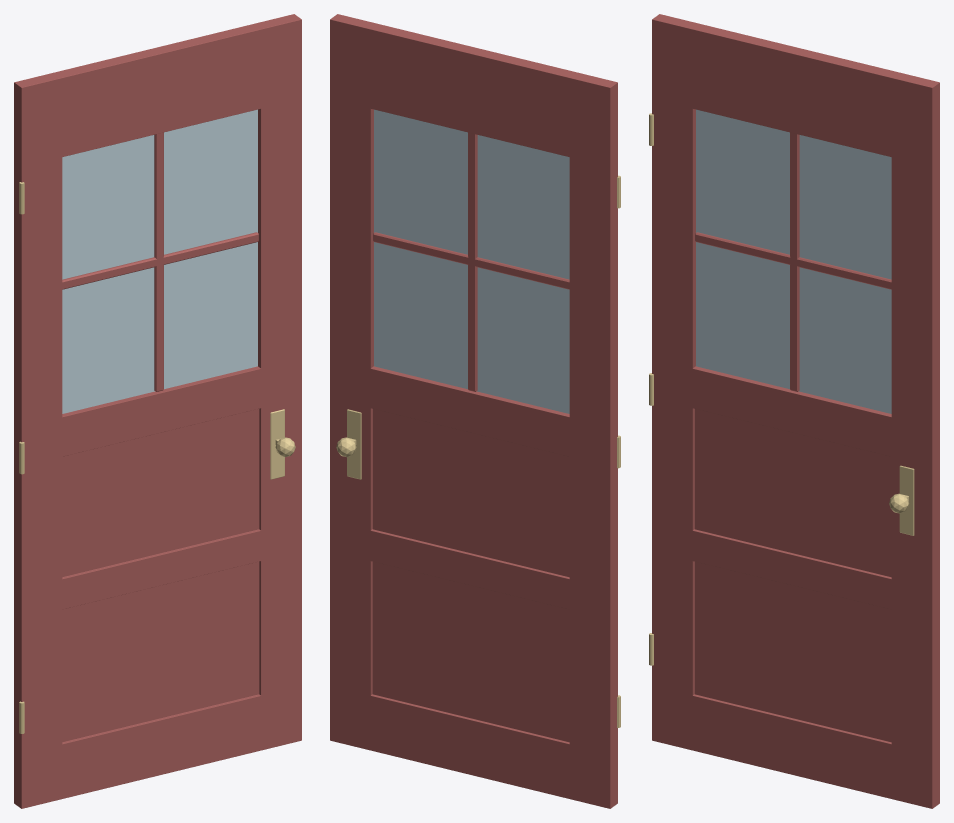
The model's file is door_leaf_exit.glb.
3 views of the same model, side by side, from view 1: azimuth 30°, elevation 25°; view 2: azimuth 150°, elevation 25°; view 3: azimuth 330°, elevation 25° (orthographic).
Visible parts, largest first — view 1: door_leaf_exit_door, door_leaf_exit_glass, door_leaf_exit_brass; view 2: door_leaf_exit_door, door_leaf_exit_glass, door_leaf_exit_brass; view 3: door_leaf_exit_door, door_leaf_exit_glass, door_leaf_exit_brass.
Part boxes in pixels (x1,y1,x2,y2): door_leaf_exit_door: (14, 14, 301, 808); door_leaf_exit_glass: (62, 109, 257, 413); door_leaf_exit_brass: (19, 182, 295, 733); door_leaf_exit_door: (330, 14, 617, 808); door_leaf_exit_glass: (374, 109, 569, 413); door_leaf_exit_brass: (336, 175, 620, 727); door_leaf_exit_door: (652, 14, 939, 808); door_leaf_exit_glass: (696, 109, 891, 413); door_leaf_exit_brass: (649, 113, 914, 665).
Size of the model in its own units: 0.968 by 2.36 by 0.205.
